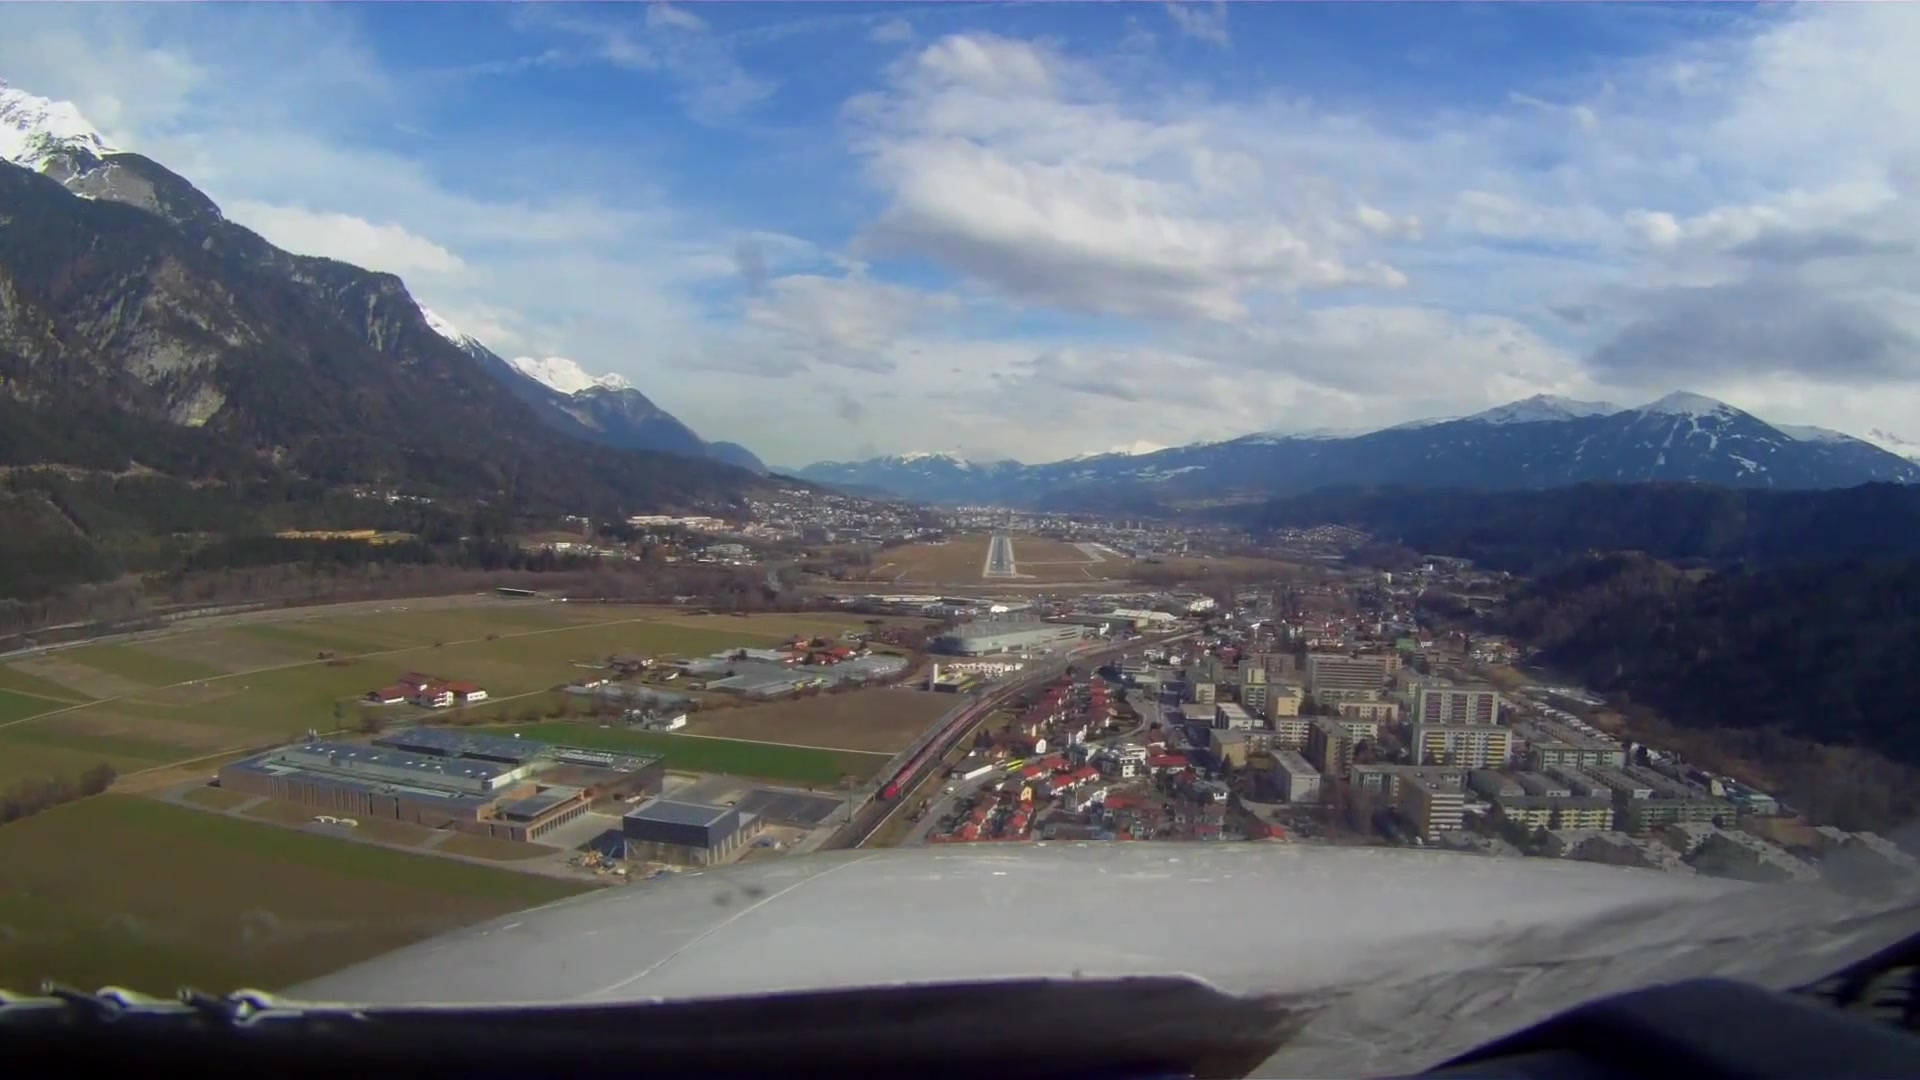runway: (982, 534, 1017, 580)
